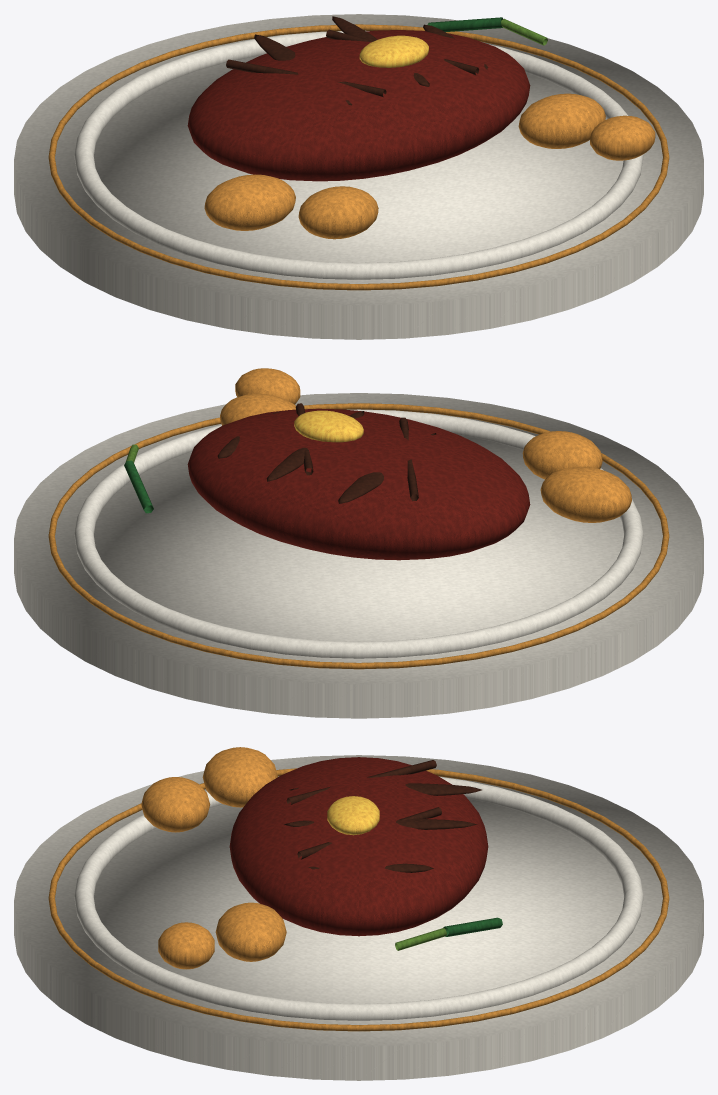
The model's file is ojo-de-bife.glb.
3 renders of one model, top to bottom at view 1: azimuth 30°, elevation 25°; view 2: azimuth 150°, elevation 25°; view 3: azimuth 270°, elevation 25°, orthographic.
Visible parts, largest first — view 1: porcelain, beef, potato, gold, sear, butter, leaf; view 2: porcelain, beef, potato, gold, sear, butter, leaf; view 3: porcelain, beef, potato, gold, sear, butter, leaf.
Boxes of the visible parts, box(x1,y1,x2,y2) form: porcelain: box(14, 14, 703, 339); beef: box(187, 30, 530, 181); potato: box(204, 93, 655, 239); gold: box(48, 24, 669, 290); sear: box(226, 16, 488, 105); butter: box(359, 35, 428, 67); leaf: box(427, 17, 502, 31); porcelain: box(14, 393, 703, 718); beef: box(187, 408, 530, 560); potato: box(220, 368, 631, 522); gold: box(48, 403, 669, 669); sear: box(217, 403, 436, 503); butter: box(294, 410, 363, 442); leaf: box(124, 460, 153, 513); porcelain: box(14, 755, 703, 1080); beef: box(229, 757, 488, 936); potato: box(141, 747, 286, 969); gold: box(48, 768, 669, 1031); sear: box(284, 760, 481, 872); butter: box(327, 796, 379, 835); leaf: box(443, 917, 502, 936).
Bounding box in the file's own units: 0.64 × 0.1505 × 0.64.
Materials: 9 (9 with a texture image).
